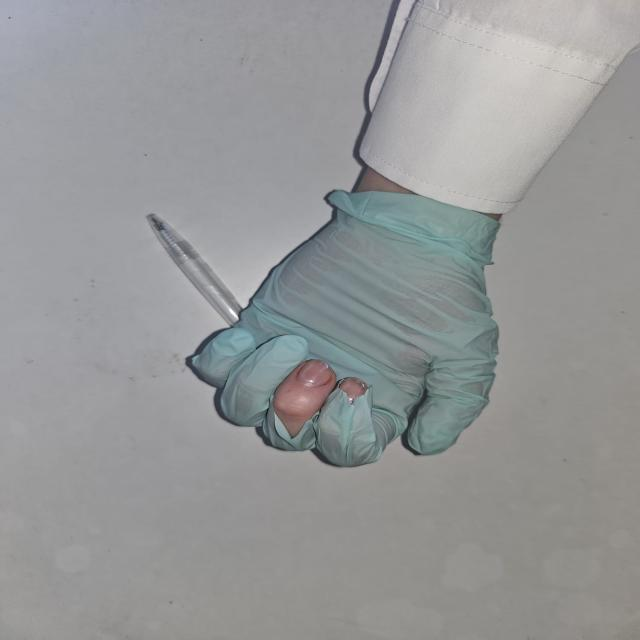gloves_damaged: (182, 184, 509, 469)
